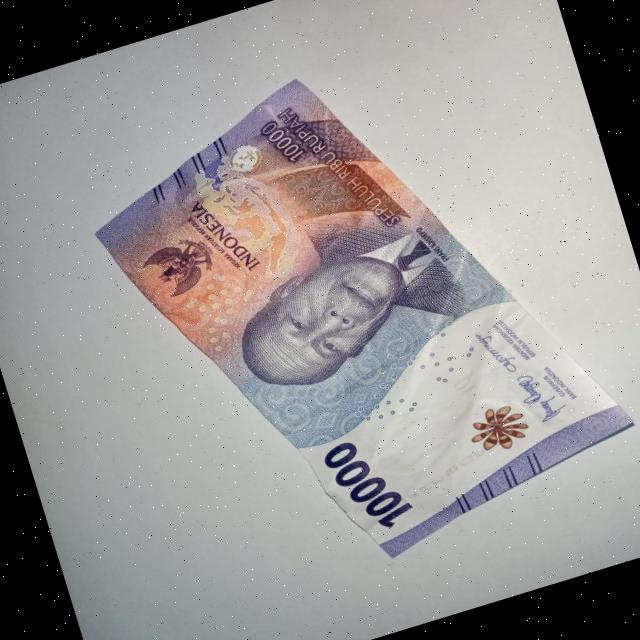10K: (57, 4, 640, 626)
